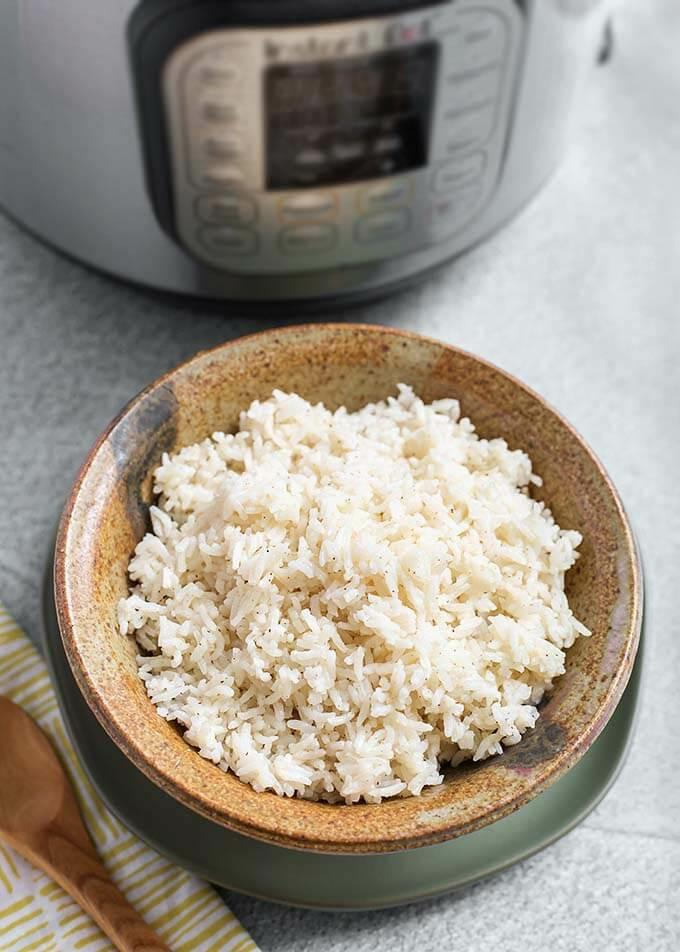WhiteRice: (118, 388, 593, 792)
